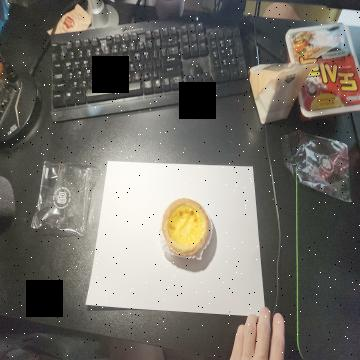EggTart: (162, 197, 209, 255)
